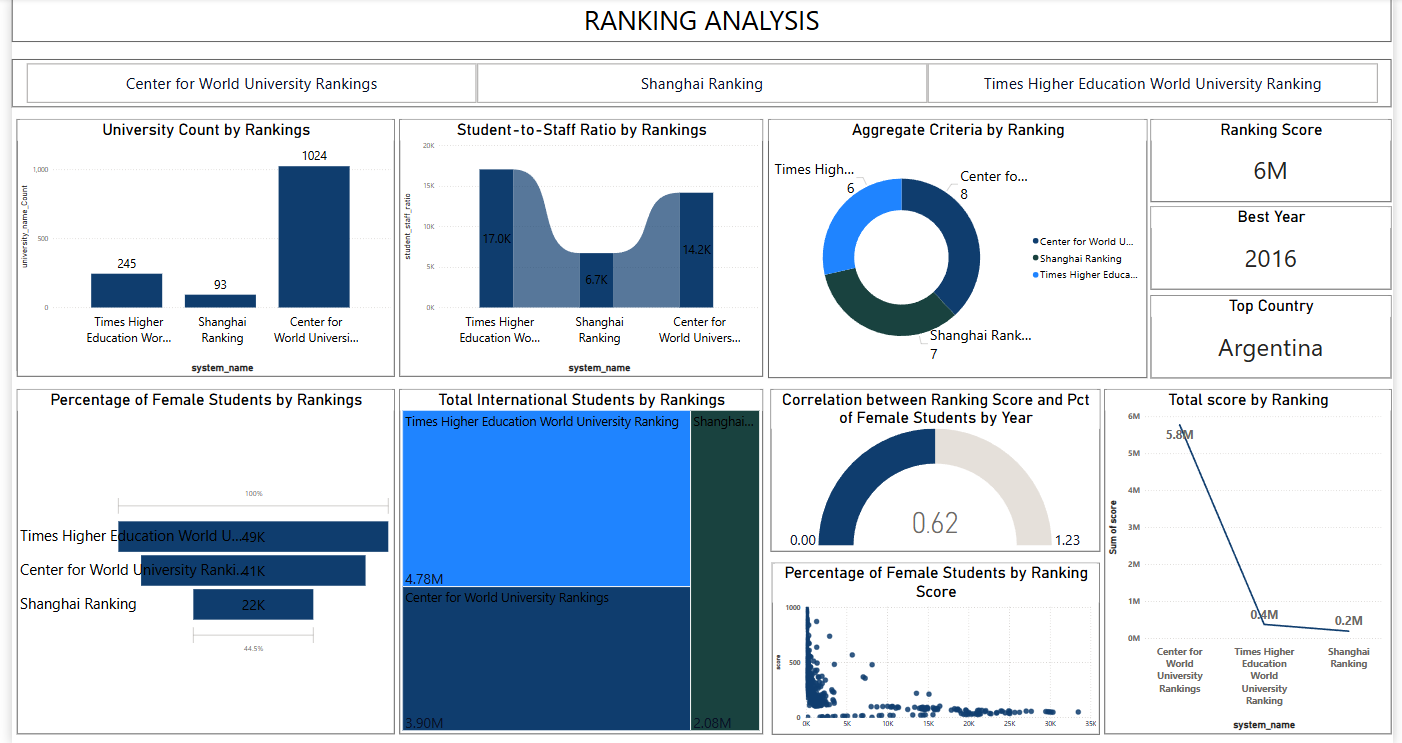

What the dashboard file says about the page in this screenshot:
{"tool":"powerbi","page":{"name":"Ranking Analysis","canvas":[2500,1350],"ordinal":2},"visuals":[{"type":"columnChart","title":"University Count by Rankings","fields":{"Category":["ranking_system.system_name"],"Y":["CountNonNull(university.university_name)"]},"box":[8.5,220.2,683.3,465.9],"z":1000},{"type":"ribbonChart","title":" Student-to-Staff Ratio by Rankings","fields":{"Category":["ranking_system.system_name"],"Y":["Sum(university_year.student_staff_ratio)"]},"box":[700.2,220.2,657.9,465.9],"z":2000},{"type":"donutChart","title":"Aggregate Criteria by Ranking","fields":{"Category":["ranking_system.system_name"],"Y":["CountNonNull(ranking_criteria.criteria_name)"]},"box":[1369.5,220.3,685.9,467.8],"z":3000},{"type":"funnel","title":" Percentage of Female Students by Rankings","fields":{"Category":["ranking_system.system_name"],"Y":["Sum(university_year.pct_female_students)"]},"box":[8.5,708.7,683.3,624],"z":4000},{"type":"treemap","title":"Total International Students by Rankings","fields":{"Group":["ranking_system.system_name"],"Values":["Sum(university_year.Total_Int_Student)"]},"box":[700.2,708.7,657.9,624],"z":5000},{"type":"gauge","title":"Correlation between Ranking Score and Pct of Female Students by Year","fields":{"Y":["country.score and pct_female_students correlation for year"]},"box":[1372.2,708.7,595.8,293.6],"z":6000},{"type":"scatterChart","title":"Percentage of Female Students by Ranking Score","fields":{"Y":["university_ranking_year.score"],"X":["Sum(university_year.pct_female_students)"]},"box":[1375.1,1022.1,592.9,310.6],"z":7000},{"type":"textbox","box":[0,0,2495.9,79.5],"z":10000},{"type":"lineChart","title":"Total score by Ranking","fields":{"Y":["Sum(university_ranking_year.score)"],"Category":["ranking_system.system_name"]},"box":[1976.5,708.7,519.5,624],"z":11000},{"type":"card","title":"Ranking Score","fields":{"Values":["Sum(university_ranking_year.score)"]},"box":[2061.2,220.2,434.8,149.6],"z":12000},{"type":"card","title":"Best Year","fields":{"Values":["Max(university_ranking_year.year)"]},"box":[2061.2,378.4,434.8,149.6],"z":13000},{"type":"card","title":"Top Country","fields":{"Values":["Min(country.country_name)"]},"box":[2061.2,539.3,434.8,149.6],"z":14000},{"type":"slicer","fields":{"Values":["ranking_system.system_name"]},"box":[0,111.3,2495.9,86.3],"z":15001}]}

Visuals, with their boxes in screenshot pixels (x1, y1, x2, y2), scaled from the page's 2500x1350 canvas onto the 1402x743 screenshot:
"University Count by Rankings" columnChart: box(5, 121, 388, 378)
" Student-to-Staff Ratio by Rankings" ribbonChart: box(393, 121, 762, 378)
"Aggregate Criteria by Ranking" donutChart: box(768, 121, 1153, 379)
" Percentage of Female Students by Rankings" funnel: box(5, 390, 388, 733)
"Total International Students by Rankings" treemap: box(393, 390, 762, 733)
"Correlation between Ranking Score and Pct of Female Students by Year" gauge: box(770, 390, 1104, 552)
"Percentage of Female Students by Ranking Score" scatterChart: box(771, 563, 1104, 733)
textbox: box(0, 0, 1400, 44)
"Total score by Ranking" lineChart: box(1108, 390, 1400, 733)
"Ranking Score" card: box(1156, 121, 1400, 204)
"Best Year" card: box(1156, 208, 1400, 291)
"Top Country" card: box(1156, 297, 1400, 379)
slicer - ranking_system.system_name: box(0, 61, 1400, 109)
